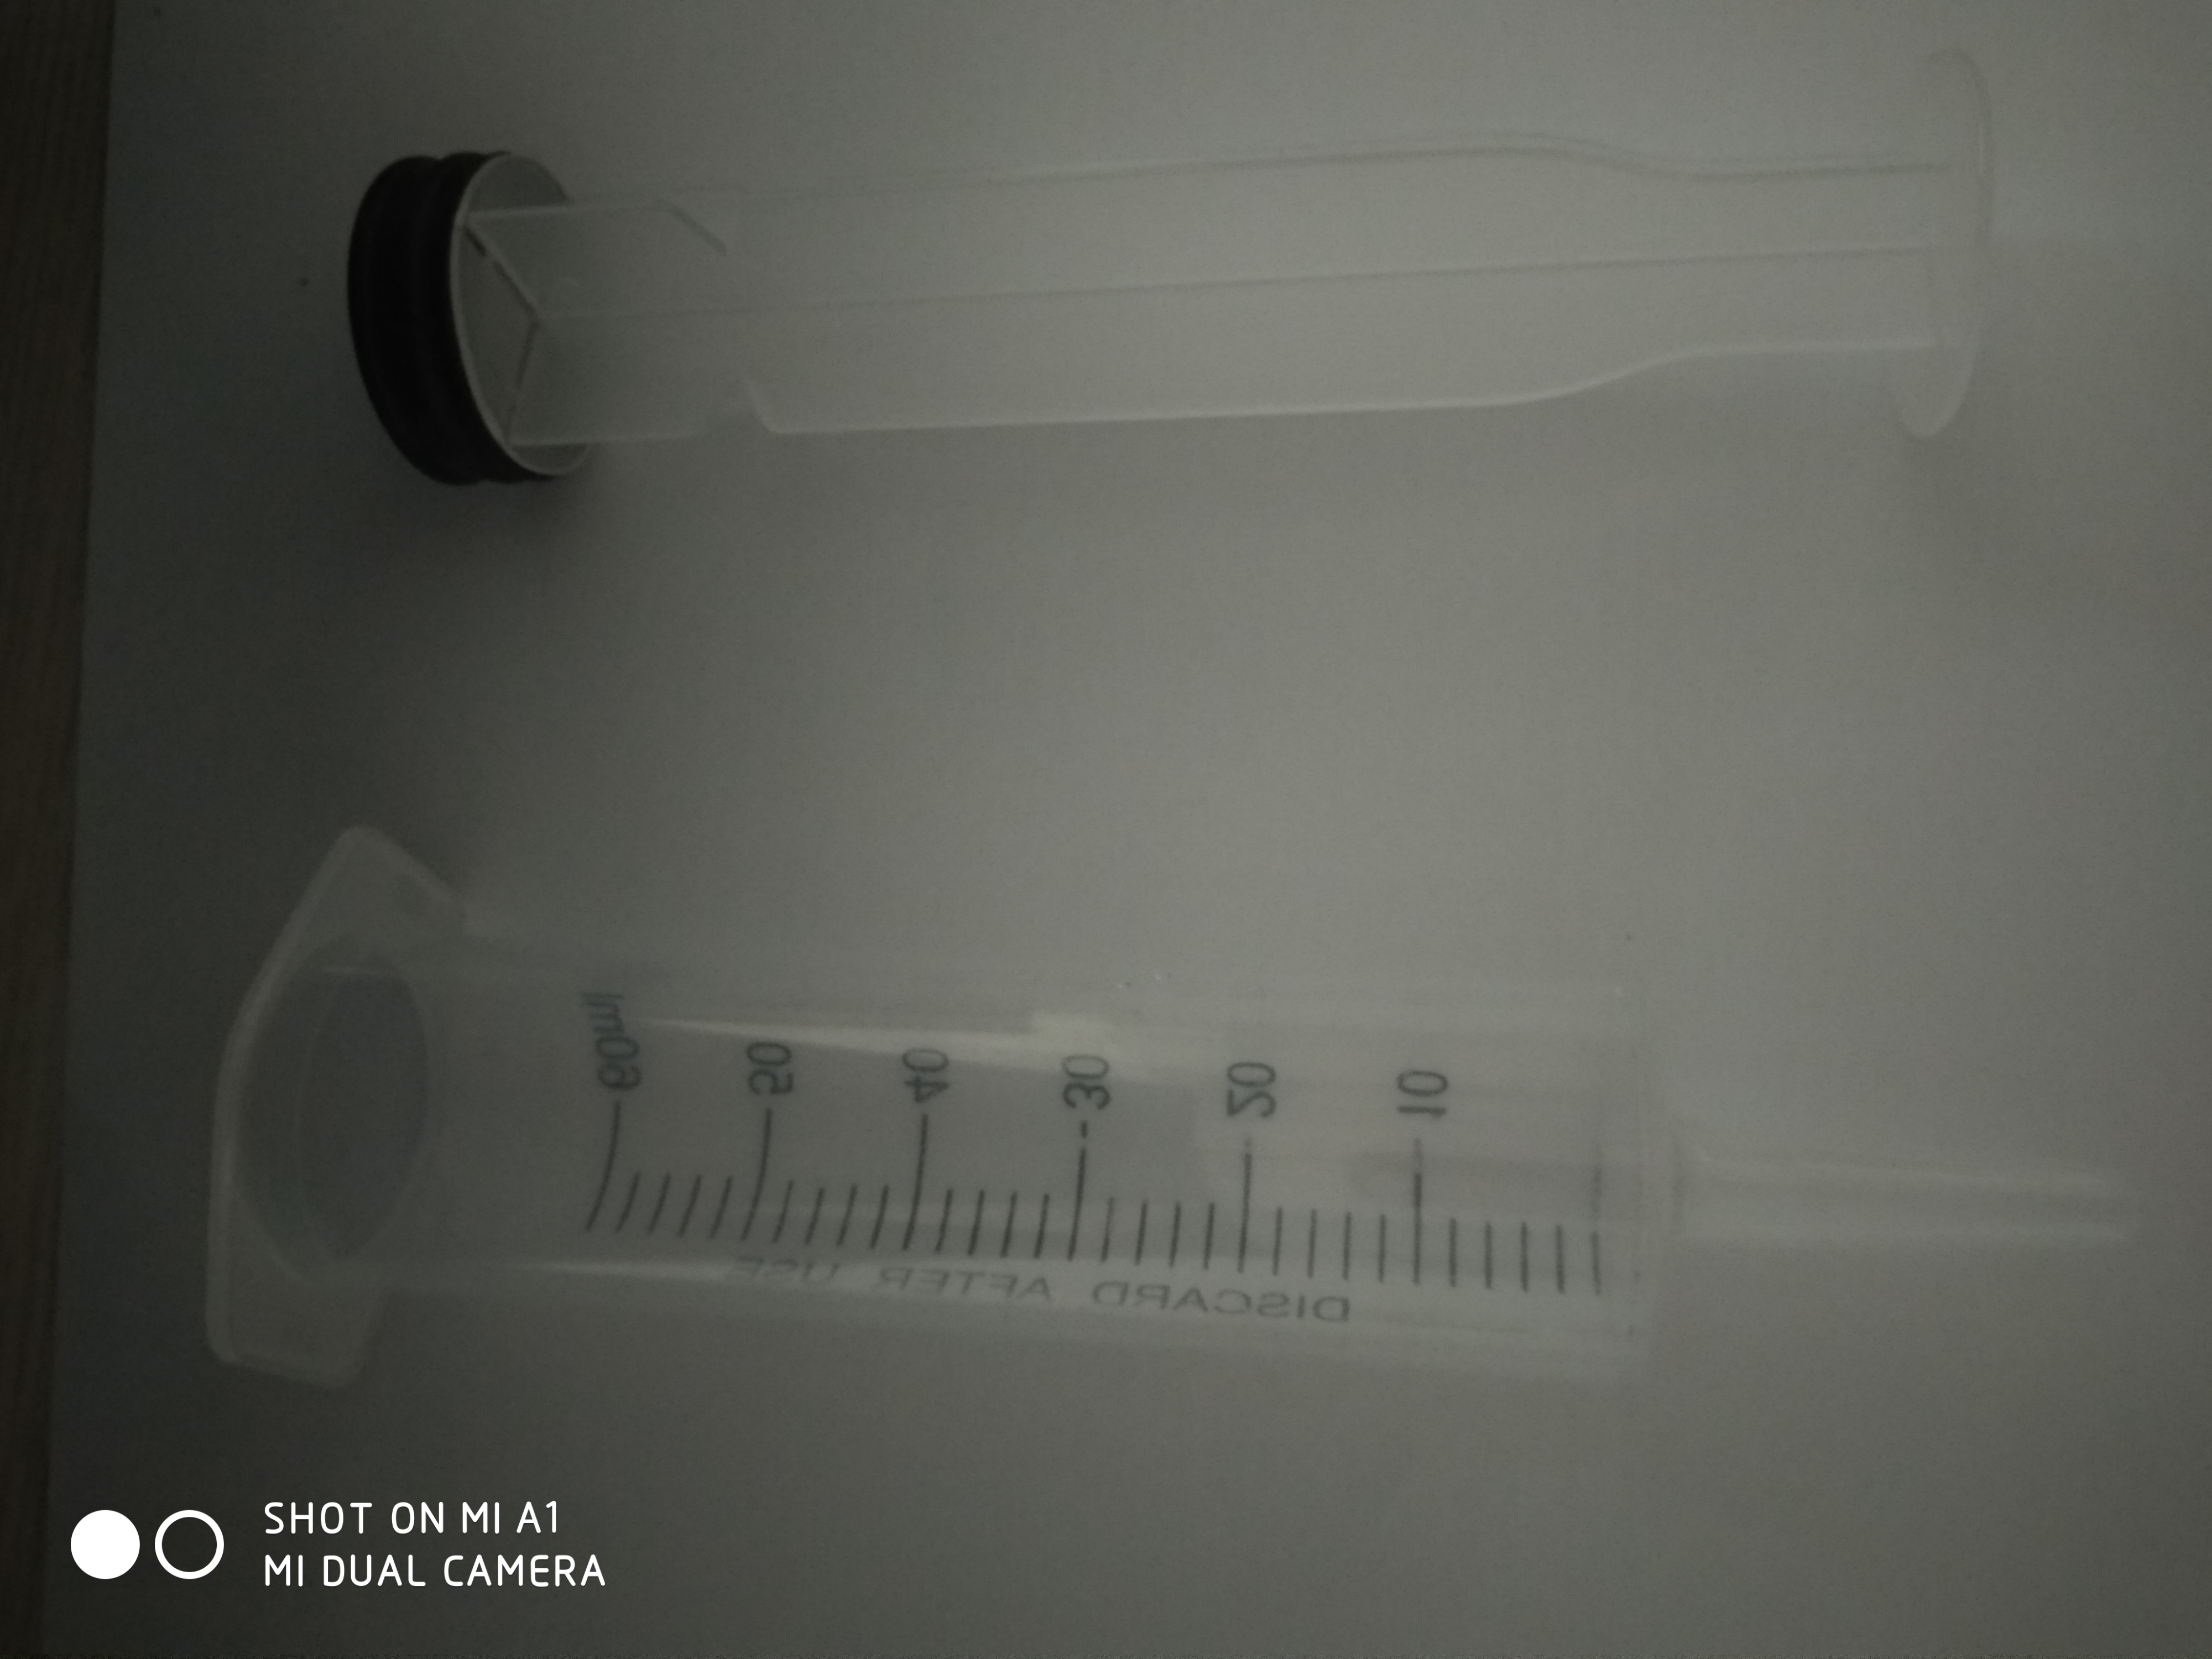plunger: (333, 33, 2019, 502)
syringe: (183, 810, 2153, 1398)
